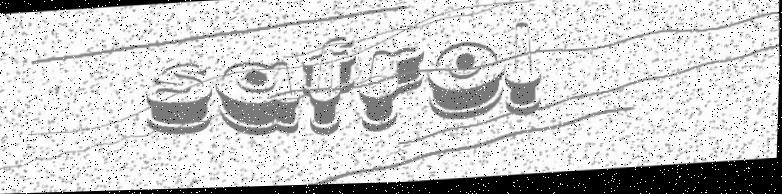a: (214, 60, 302, 139)
f: (301, 39, 358, 139)
l: (504, 24, 545, 119)
o: (426, 42, 507, 124)
r: (357, 49, 427, 135)
s: (146, 63, 215, 137)
